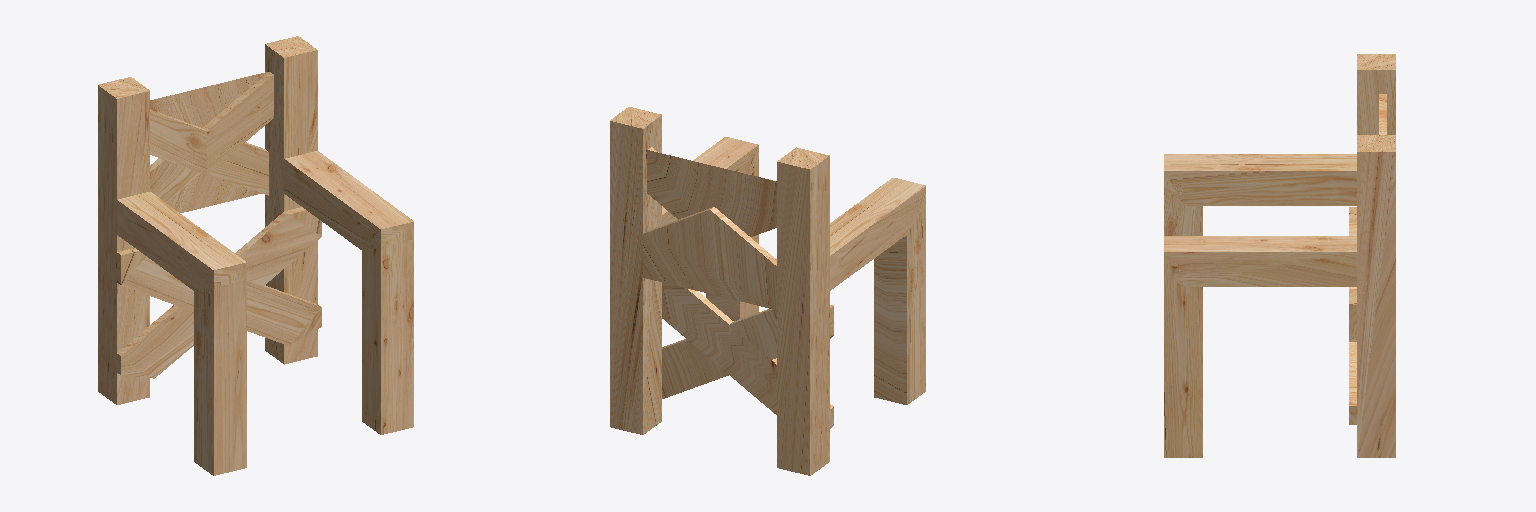
3 renders of one model, left to right at view 1: azimuth 30°, elevation 25°; view 2: azimuth 150°, elevation 25°; view 3: azimuth 270°, elevation 25°, orthographic.
Bounding box in the file's own units: 48 × 70 × 48.
1 materials, 1 textured.